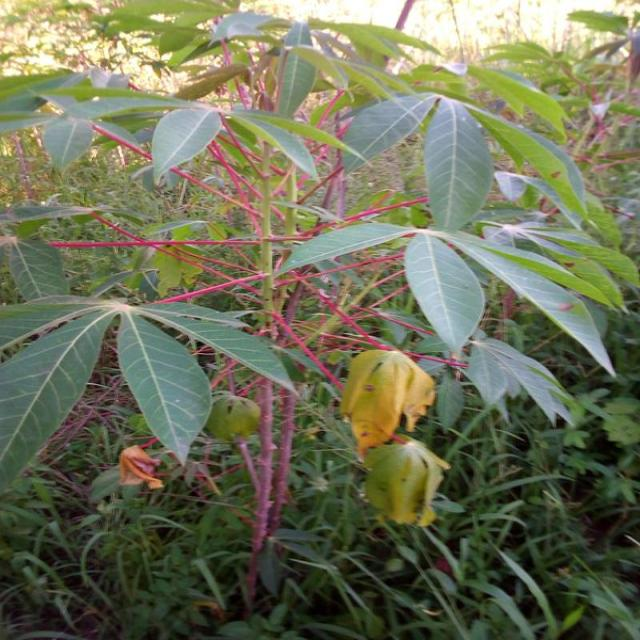cassava leaf: (115, 307, 212, 466), (339, 347, 436, 458), (403, 230, 485, 356), (422, 95, 493, 232), (338, 91, 438, 174), (363, 437, 450, 527), (150, 103, 220, 189)
